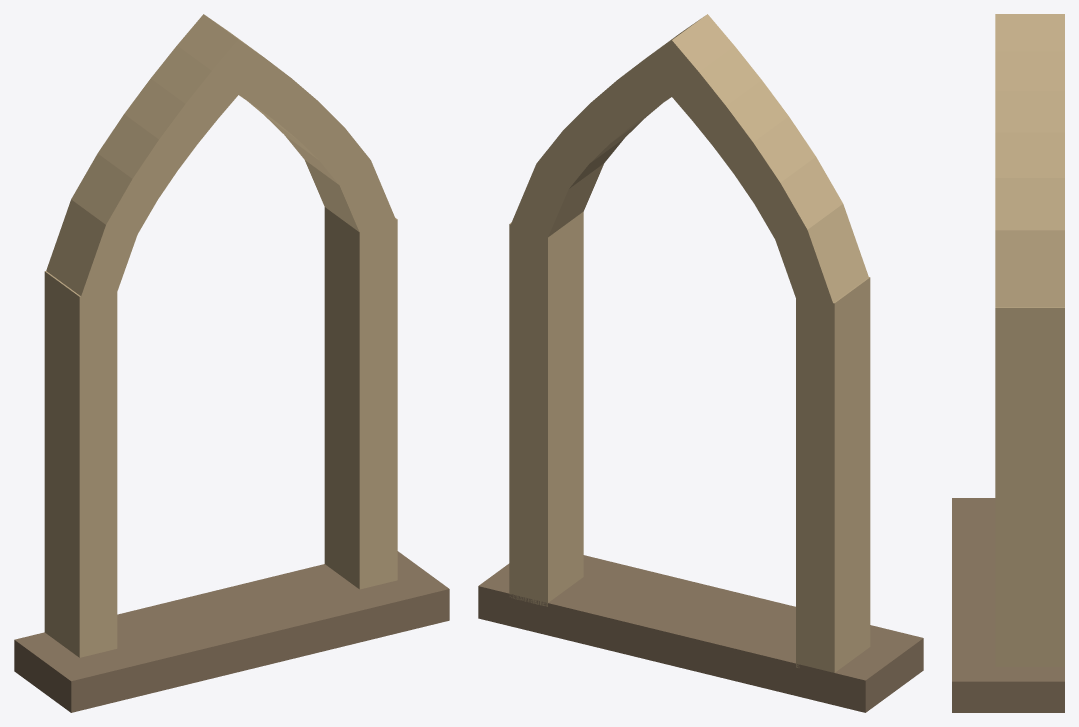
The model's file is window_stained.glb.
3 views of the same model, side by side, from view 1: azimuth 30°, elevation 25°; view 2: azimuth 150°, elevation 25°; view 3: azimuth 270°, elevation 25° (orthographic). The views are drawn at different scales.
Visible parts, largest first — view 1: window_stained; view 2: window_stained; view 3: window_stained.
Part boxes in pixels (bbox=[...]): window_stained: bbox=[14, 14, 449, 712]; window_stained: bbox=[478, 14, 923, 712]; window_stained: bbox=[952, 14, 1064, 712].
Size of the model in its own units: 0.5 by 0.7716 by 0.13.
